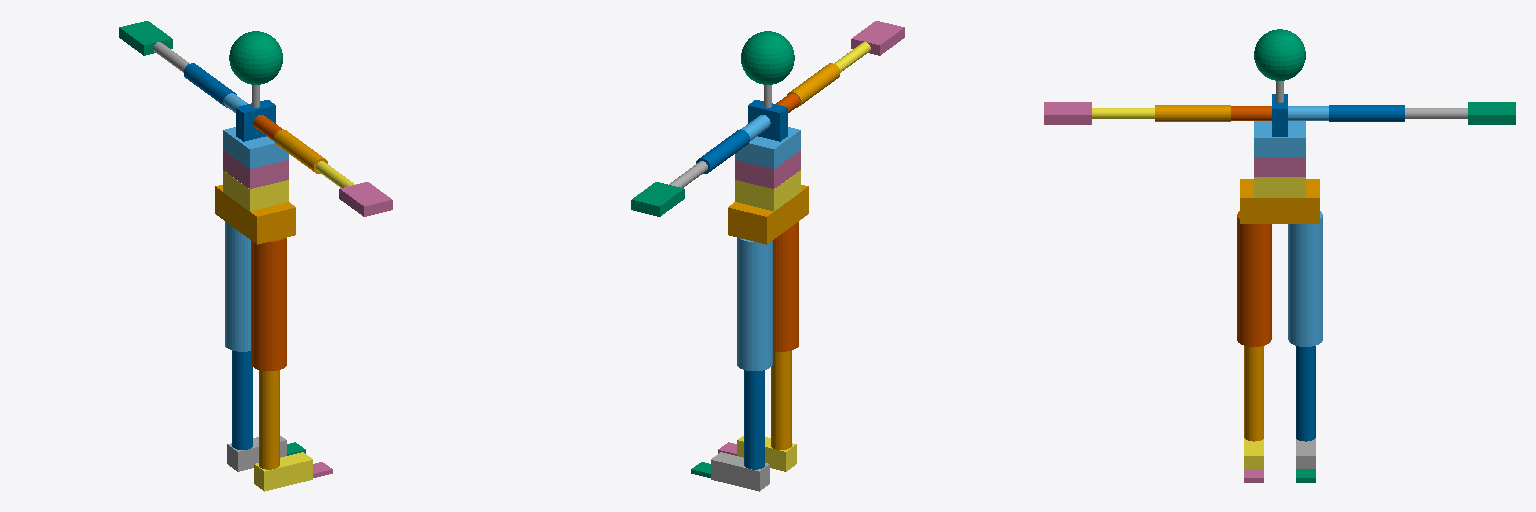
--- Facts derived from the render (not from the file) ---
The picture shows the robot from 3 angles, left to right: view 1: azimuth 30°, elevation 25°; view 2: azimuth 150°, elevation 25°; view 3: azimuth 270°, elevation 25°; orthographic projection.
Model XSensStyleModel_template with 67 links and 66 joints (66 revolute), rooted at Pelvis, posed all joints at 0.
Visible links, largest first — view 1: RightUpperLeg, LeftUpperLeg, Pelvis, Head, RightLowerLeg, LeftLowerLeg, T12, RightFoot, L5, L3, RightHand, LeftHand (+4 smaller); view 2: LeftUpperLeg, RightUpperLeg, Pelvis, Head, LeftLowerLeg, RightLowerLeg, T12, LeftFoot, L5, L3, LeftHand, RightHand (+4 smaller); view 3: RightUpperLeg, LeftUpperLeg, Pelvis, Head, RightLowerLeg, LeftLowerLeg, T12, RightUpperArm, LeftUpperArm, RightHand, LeftHand, L5 (+8 smaller).
Link boxes in pixels (x1,y1,x2,y2): RightUpperLeg: (251,238,286,370); LeftUpperLeg: (225,222,250,351); Pelvis: (215,185,295,244); Head: (229,31,282,84); RightLowerLeg: (259,370,279,469); LeftLowerLeg: (232,351,252,449); T12: (223,127,288,168); RightFoot: (254,452,312,491); L5: (223,170,288,210); L3: (223,150,288,188); RightHand: (339,182,392,216); LeftHand: (119,21,172,55); LeftUpperLeg: (737,238,772,370); RightUpperLeg: (773,222,798,351); Pelvis: (728,185,808,244); Head: (741,31,794,84); LeftLowerLeg: (744,370,764,469); RightLowerLeg: (771,351,791,449); T12: (735,127,800,168); LeftFoot: (711,452,769,491); L5: (735,170,800,210); L3: (735,150,800,188); LeftHand: (631,182,684,216); RightHand: (851,21,904,55); RightUpperLeg: (1237,211,1271,346); LeftUpperLeg: (1288,211,1322,346); Pelvis: (1240,179,1319,223); Head: (1254,29,1305,80); RightLowerLeg: (1244,346,1263,441); LeftLowerLeg: (1296,346,1315,441); T12: (1254,121,1305,156); RightUpperArm: (1155,105,1230,121); LeftUpperArm: (1329,105,1404,121); RightHand: (1044,102,1091,124); LeftHand: (1468,102,1515,124); L5: (1254,177,1305,197).
Bounding box of the posed robot: 0.346 × 1.8 × 1.8 m (x, y, z).
Geometry: primitives only (box / cylinder / sphere), no mesh files.

The robot description file, URDF, robot "XSensStyleModel_template":
<!--URDF MODEL 66 DoFs-->

<robot name="XSensStyleModel_template">
<!--To open this model with Gazebo replace the null masses, inertias and dimensions of the 'fake links f1 and f2'-->
    <!--LINKS-->
	<!--Link base (1)-->
	<link name="Pelvis">
        <inertial>
            <mass value="5.696"/>
			<!--COM origin wrt pHipOrigin-->
            <origin xyz="0           0    0.059167" rpy="0 0 0" />
            <inertia ixx="0.050919" iyy="0.019195" izz="0.058056" ixy="0" ixz="0" iyz="0"/>
        </inertial>

        <visual>
			<!--box origin wrt pHipOrigin-->
            <origin xyz="0           0    0.059167" rpy="0 0 0" />
            <geometry>
                <box size="0.16655     0.30753      0.1127"/>
            </geometry>
        </visual>

        <collision>
			<!--box origin wrt pHipOrigin-->
            <origin xyz="0           0    0.059167" rpy="0 0 0" />
            <geometry>
                <box size="0.16655     0.30753      0.1127"/>
            </geometry>
        </collision>

    </link>
    <!--Chain from (2) to (7)-->
	<link name="L5_f1">
        <inertial>
            <mass value="0"/>
            <origin xyz="0 0 0" rpy="0 0 0" />
            <inertia ixx="0" iyy="0" izz="0" ixy="0" ixz="0" iyz="0"/>
        </inertial>
    </link>
	<link name="L5_f2">
        <inertial>
            <mass value="0"/>
            <origin xyz="0 0 0" rpy="0 0 0" />
            <inertia ixx="0" iyy="0" izz="0" ixy="0" ixz="0" iyz="0"/>
        </inertial>
    </link>
	<link name="L5">
        <inertial>
            <mass value="7.2624"/>
			<!--COM origin wrt jL5S1-->
            <origin xyz="0           0    0.044881" rpy="0 0 0" />
            <inertia ixx="0.02831" iyy="0.021663" izz="0.040221" ixy="0" ixz="0" iyz="0"/>
        </inertial>

        <visual>
			<!--box origin origin wrt jL5S1-->
            <origin xyz="0           0    0.044881" rpy="0 0 0" />
            <geometry>
                <box size="0.16655     0.19678    0.089762"/>
            </geometry>
        </visual>

        <collision>
			<!--box origin origin wrt jL5S1-->
            <origin xyz="0           0    0.044881" rpy="0 0 0" />
            <geometry>
                <box size="0.16655     0.19678    0.089762"/>
            </geometry>
        </collision>
    </link>
	<link name="L3_f1">
        <inertial>
            <mass value="0"/>
            <origin xyz="0 0 0" rpy="0 0 0" />
            <inertia ixx="0" iyy="0" izz="0" ixy="0" ixz="0" iyz="0"/>
        </inertial>
    </link>
	<link name="L3_f2">
        <inertial>
            <mass value="0"/>
            <origin xyz="0 0 0" rpy="0 0 0" />
            <inertia ixx="0" iyy="0" izz="0" ixy="0" ixz="0" iyz="0"/>
        </inertial>
    </link>
	<link name="L3">
        <inertial>
            <mass value="7.2624"/>
			<!--COM origin wrt jL4L3-->
            <origin xyz="0           0    0.040536" rpy="0 0 0" />
            <inertia ixx="0.027412" iyy="0.020764" izz="0.040221" ixy="0" ixz="0" iyz="0"/>
        </inertial>

        <visual>
			<!--box origin origin wrt jL4L3-->
            <origin xyz="0           0    0.040536" rpy="0 0 0" />
            <geometry>
                <box size="0.16655     0.19678    0.081071"/>
            </geometry>
        </visual>

        <collision>
			<!--box origin origin wrt jL4L3-->
            <origin xyz="0           0    0.040536" rpy="0 0 0" />
            <geometry>
                <box size="0.16655     0.19678    0.081071"/>
            </geometry>
        </collision>
    </link>
	<link name="T12_f1">
        <inertial>
            <mass value="0"/>
            <origin xyz="0 0 0" rpy="0 0 0" />
            <inertia ixx="0" iyy="0" izz="0" ixy="0" ixz="0" iyz="0"/>
        </inertial>
    </link>
	<link name="T12_f2">
        <inertial>
            <mass value="0"/>
            <origin xyz="0 0 0" rpy="0 0 0" />
            <inertia ixx="0" iyy="0" izz="0" ixy="0" ixz="0" iyz="0"/>
        </inertial>
    </link>
	<link name="T12">
        <inertial>
            <mass value="7.2624"/>
			<!--COM origin wrt jL1T12-->
            <origin xyz="0           0    0.040536" rpy="0 0 0" />
            <inertia ixx="0.027412" iyy="0.020764" izz="0.040221" ixy="0" ixz="0" iyz="0"/>
        </inertial>

        <visual>
			<!--box origin origin wrt jL1T12-->
            <origin xyz="0           0    0.040536" rpy="0 0 0" />
            <geometry>
                <box size="0.16655     0.19678    0.081071"/>
            </geometry>
        </visual>

        <collision>
			<!--box origin origin wrt jL1T12-->
            <origin xyz="0           0    0.040536" rpy="0 0 0" />
            <geometry>
                <box size="0.16655     0.19678    0.081071"/>
            </geometry>
        </collision>
    </link>
	<link name="T8_f1">
        <inertial>
            <mass value="0"/>
            <origin xyz="0 0 0" rpy="0 0 0" />
            <inertia ixx="0" iyy="0" izz="0" ixy="0" ixz="0" iyz="0"/>
        </inertial>
    </link>
	<link name="T8_f2">
        <inertial>
            <mass value="0"/>
            <origin xyz="0 0 0" rpy="0 0 0" />
            <inertia ixx="0" iyy="0" izz="0" ixy="0" ixz="0" iyz="0"/>
        </inertial>
    </link>
	<link name="T8">
        <inertial>
            <mass value="2.848"/>
			<!--COM origin wrt jT9T8-->
            <origin xyz="0           0    0.058058" rpy="0 0 0" />
            <inertia ixx="0.0040381" iyy="0.0077541" izz="0.0053923" ixy="0" ixz="0" iyz="0"/>
        </inertial>

        <visual>
			<!--box origin wrt jT9T8-->
            <origin xyz="0           0    0.058058" rpy="0 0 0" />
            <geometry>
                <box size="0.13852    0.059426     0.11612"/>
            </geometry>
        </visual>

        <collision>
			<!--box origin wrt jT9T8-->
            <origin xyz="0           0    0.058058" rpy="0 0 0" />
            <geometry>
                <box size="0.13852    0.059426     0.11612"/>
            </geometry>
        </collision>

    </link>
	<link name="Neck_f1">
        <inertial>
            <mass value="0"/>
            <origin xyz="0 0 0" rpy="0 0 0" />
            <inertia ixx="0" iyy="0" izz="0" ixy="0" ixz="0" iyz="0"/>
        </inertial>
    </link>
	<link name="Neck_f2">
        <inertial>
            <mass value="0"/>
            <origin xyz="0 0 0" rpy="0 0 0" />
            <inertia ixx="0" iyy="0" izz="0" ixy="0" ixz="0" iyz="0"/>
        </inertial>
    </link>
	<link name="Neck">
        <inertial>
            <mass value="0.8544"/>
			<!--COM origin wrt jT1C7-->
            <origin xyz="0           0    0.048176" rpy="0 0 0" />
            <inertia ixx="0.00086442" iyy="0.00086442" izz="0.00040681" ixy="0" ixz="0" iyz="0"/>
        </inertial>

        <visual>
			<!--box origin wrt jT1C7-->
            <origin xyz="0           0    0.048176" rpy="0 0 0" />
            <geometry>
		<cylinder length="0.096353" radius="0.01543"/>
            </geometry>
        </visual>

        <collision>
			<!--box origin wrt jT1C7-->
            <origin xyz="0           0    0.048176" rpy="0 0 0" />
            <geometry>
                <cylinder length="0.096353" radius="0.01543"/>
            </geometry>
        </collision>
    </link>
	<link name="Head_f1">
        <inertial>
            <mass value="0"/>
            <origin xyz="0 0 0" rpy="0 0 0" />
            <inertia ixx="0" iyy="0" izz="0" ixy="0" ixz="0" iyz="0"/>
        </inertial>
    </link>
	<link name="Head_f2">
        <inertial>
            <mass value="0"/>
            <origin xyz="0 0 0" rpy="0 0 0" />
            <inertia ixx="0" iyy="0" izz="0" ixy="0" ixz="0" iyz="0"/>
        </inertial>
    </link>
	<link name="Head">
        <inertial>
            <mass value="2.5632"/>
			<!--COM origin wrt jC1Head-->
            <origin xyz="0           0    0.099452" rpy="0 0 0" />
            <inertia ixx="0.010141" iyy="0.010141" izz="0.010141" ixy="0" ixz="0" iyz="0"/>
        </inertial>

        <visual>
			<!--boc origin wrt jC1Head-->
            <origin xyz="0           0    0.099452" rpy="0 0 0" />
            <geometry>
                <sphere radius="0.099452"/>
            </geometry>
        </visual>

        <collision>
			<!--box origin wrt jC1Head-->
            <origin xyz="0           0    0.099452" rpy="0 0 0" />
            <geometry>
                <sphere radius="0.099452"/>
            </geometry>
        </collision>

    </link>
	<!--Chain from (8) to (11)-->
	<link name="RightShoulder_f1">
        <inertial>
            <mass value="0"/>
            <origin xyz="0 0 0" rpy="0 0 0" />
            <inertia ixx="0" iyy="0" izz="0" ixy="0" ixz="0" iyz="0"/>
        </inertial>
    </link>
	<link name="RightShoulder_f2">
        <inertial>
            <mass value="0"/>
            <origin xyz="0 0 0" rpy="0 0 0" />
            <inertia ixx="0" iyy="0" izz="0" ixy="0" ixz="0" iyz="0"/>
        </inertial>
    </link>
	<link name="RightShoulder">
        <inertial>
            <mass value="2.2072"/>
			<!--COM origin wrt jRightC7Shoulder-->
            <origin xyz="0   -0.078854           0" rpy="0 0 0" />
            <inertia ixx="0.0050082" iyy="0.00086686" izz="0.0050082" ixy="0" ixz="0" iyz="0"/>
        </inertial>

        <visual>
			<!--box origin wrt jRightC7Shoulder. RPY rotated of pi/2.-->
            <origin xyz="0   -0.078854           0" rpy="1.5708 0 0" />
            <geometry>
                <cylinder length="0.15771" radius="0.028026"/>
            </geometry>
        </visual>

        <collision>
			<!--box origin wrt jRightC7Shoulder. RPY rotated of pi/2.-->
            <origin xyz="0   -0.078854           0" rpy="1.5708 0 0" />
            <geometry>
                <cylinder length="0.15771" radius="0.028026"/>
            </geometry>
        </collision>

    </link>
	<link name="RightUpperArm_f1">
        <inertial>
            <mass value="0"/>
            <origin xyz="0 0 0" rpy="0 0 0" />
            <inertia ixx="0" iyy="0" izz="0" ixy="0" ixz="0" iyz="0"/>
        </inertial>
    </link>
	<link name="RightUpperArm_f2">
        <inertial>
            <mass value="0"/>
            <origin xyz="0 0 0" rpy="0 0 0" />
            <inertia ixx="0" iyy="0" izz="0" ixy="0" ixz="0" iyz="0"/>
        </inertial>
    </link>
    <link name="RightUpperArm">
        <inertial>
            <mass value="2.136"/>
			<!--COM origin wrt jRightShoulder-->
            <origin xyz="0    -0.14573           0" rpy="0 0 0" />
            <inertia ixx="0.015663" iyy="0.0010831" izz="0.015663" ixy="0" ixz="0" iyz="0"/>
        </inertial>

        <visual>
			<!--box origin wrt jRightShoulder. RPY rotated of pi/2.-->
            <origin xyz="0    -0.14573           0" rpy="1.5708 0 0" />
            <geometry>
                <cylinder length="0.29147" radius="0.031846"/>
            </geometry>
        </visual>

        <collision>
			<!--box origin wrt jRightShoulder. RPY rotated of pi/2.-->
            <origin xyz="0    -0.14573           0" rpy="1.5708 0 0" />
            <geometry>
                <cylinder length="0.29147" radius="0.031846"/>
            </geometry>
        </collision>

    </link>
	<link name="RightForeArm_f1">
        <inertial>
            <mass value="0"/>
            <origin xyz="0 0 0" rpy="0 0 0" />
            <inertia ixx="0" iyy="0" izz="0" ixy="0" ixz="0" iyz="0"/>
        </inertial>
    </link>
	<link name="RightForeArm_f2">
        <inertial>
            <mass value="0"/>
            <origin xyz="0 0 0" rpy="0 0 0" />
            <inertia ixx="0" iyy="0" izz="0" ixy="0" ixz="0" iyz="0"/>
        </inertial>
    </link>
	<link name="RightForeArm">
        <inertial>
            <mass value="1.424"/>
			<!--COM origin wrt jRightElbow-->
            <origin xyz="0    -0.12047           0" rpy="0 0 0" />
            <inertia ixx="0.0070493" iyy="0.00032093" izz="0.0070493" ixy="0" ixz="0" iyz="0"/>
        </inertial>

        <visual>
			<!--box origin wrt jRightElbow. RPY rotated of pi/2.-->
            <origin xyz="0    -0.12047           0" rpy="1.5708 0 0" />
            <geometry>
                <cylinder length="0.24094" radius="0.021231"/>
            </geometry>
        </visual>

        <collision>
			<!--box origin wrt jRightElbow. RPY rotated of pi/2.-->
            <origin xyz="0    -0.12047           0" rpy="1.5708 0 0" />
            <geometry>
                <cylinder length="0.24094" radius="0.021231"/>
            </geometry>
        </collision>

    </link>
	<link name="RightHand_f1">
        <inertial>
            <mass value="0"/>
            <origin xyz="0 0 0" rpy="0 0 0" />
            <inertia ixx="0" iyy="0" izz="0" ixy="0" ixz="0" iyz="0"/>
        </inertial>
    </link>
	<link name="RightHand_f2">
        <inertial>
            <mass value="0"/>
            <origin xyz="0 0 0" rpy="0 0 0" />
            <inertia ixx="0" iyy="0" izz="0" ixy="0" ixz="0" iyz="0"/>
        </inertial>
    </link>
	<link name="RightHand">
        <inertial>
            <mass value="0.4272"/>
			<!--COM origin wrt jRightWrist-->
            <origin xyz="0   -0.090968           0" rpy="0 0 0" />
            <inertia ixx="0.0012426" iyy="0.00058792" izz="0.0017021" ixy="0" ixz="0" iyz="0"/>
        </inertial>

        <visual>
			<!--box origin wrt jRightWrist-->
            <origin xyz="0   -0.090968           0" rpy="0 0 0" />
            <geometry>
                <box size="0.12129     0.18194    0.042461"/>
            </geometry>
        </visual>

        <collision>
			<!--box origin wrt jRightWrist-->
            <origin xyz="0   -0.090968           0" rpy="0 0 0" />
            <geometry>
                <box size="0.12129     0.18194    0.042461"/>
            </geometry>
        </collision>

    </link>
	<!--Chain from (12) to (15)-->
	<link name="LeftShoulder_f1">
        <inertial>
            <mass value="0"/>
            <origin xyz="0 0 0" rpy="0 0 0" />
            <inertia ixx="0" iyy="0" izz="0" ixy="0" ixz="0" iyz="0"/>
        </inertial>
    </link>
	<link name="LeftShoulder_f2">
        <inertial>
            <mass value="0"/>
            <origin xyz="0 0 0" rpy="0 0 0" />
            <inertia ixx="0" iyy="0" izz="0" ixy="0" ixz="0" iyz="0"/>
        </inertial>
    </link>
	<link name="LeftShoulder">
        <inertial>
            <mass value="2.2072"/>
			<!--COM origin wrt jLeftC7Shoulder-->
            <origin xyz="0    0.078854           0" rpy="0 0 0" />
            <inertia ixx="0.0050082" iyy="0.00086686" izz="0.0050082" ixy="0" ixz="0" iyz="0"/>
        </inertial>

        <visual>
			<!--box origin wrt jLeftC7Shoulder. RPY rotated of pi/2.-->
            <origin xyz="0    0.078854           0" rpy="1.5708 0 0" />
            <geometry>
                <cylinder length="0.15771" radius="0.028026"/>
            </geometry>
        </visual>

        <collision>
			<!--box origin wrt jLeftC7Shoulder. RPY rotated of pi/2.-->
            <origin xyz="0    0.078854           0" rpy="1.5708 0 0" />
            <geometry>
                <cylinder length="0.15771" radius="0.028026"/>
            </geometry>
        </collision>

    </link>
	<link name="LeftUpperArm_f1">
        <inertial>
            <mass value="0"/>
            <origin xyz="0 0 0" rpy="0 0 0" />
            <inertia ixx="0" iyy="0" izz="0" ixy="0" ixz="0" iyz="0"/>
        </inertial>
    </link>
	<link name="LeftUpperArm_f2">
        <inertial>
            <mass value="0"/>
            <origin xyz="0 0 0" rpy="0 0 0" />
            <inertia ixx="0" iyy="0" izz="0" ixy="0" ixz="0" iyz="0"/>
        </inertial>
    </link>
	<link name="LeftUpperArm">
        <inertial>
            <mass value="2.136"/>
			<!--COM origin wrt jLeftShoulder-->
            <origin xyz="0     0.14573           0" rpy="0 0 0" />
            <inertia ixx="0.015663" iyy="0.0010831" izz="0.015663" ixy="0" ixz="0" iyz="0"/>
        </inertial>

        <visual>
			<!--box origin wrt jLeftShoulder. RPY rotated of pi/2.-->
            <origin xyz="0     0.14573           0" rpy="1.5708 0 0" />
            <geometry>
                <cylinder length="0.29147" radius="0.031846"/>
            </geometry>
        </visual>

        <collision>
			<!--box origin wrt jLeftShoulder. RPY rotated of pi/2.-->
            <origin xyz="0     0.14573           0" rpy="1.5708 0 0" />
            <geometry>
                <cylinder length="0.29147" radius="0.031846"/>
            </geometry>
        </collision>

    </link>
	<link name="LeftForeArm_f1">
        <inertial>
            <mass value="0"/>
            <origin xyz="0 0 0" rpy="0 0 0" />
            <inertia ixx="0" iyy="0" izz="0" ixy="0" ixz="0" iyz="0"/>
        </inertial>
    </link>
	<link name="LeftForeArm_f2">
        <inertial>
            <mass value="0"/>
            <origin xyz="0 0 0" rpy="0 0 0" />
            <inertia ixx="0" iyy="0" izz="0" ixy="0" ixz="0" iyz="0"/>
        </inertial>
    </link>
	<link name="LeftForeArm">
        <inertial>
            <mass value="1.424"/>
			<!--COM origin wrt jLeftElbow-->
            <origin xyz="0     0.12047           0" rpy="0 0 0" />
            <inertia ixx="0.0070493" iyy="0.00032093" izz="0.0070493" ixy="0" ixz="0" iyz="0"/>
        </inertial>

        <visual>
			<!--box origin wrt jLeftElbow. RPY rotated of pi/2.-->
            <origin xyz="0     0.12047           0" rpy="1.5708 0 0" />
            <geometry>
                <cylinder length="0.24094" radius="0.021231"/>
            </geometry>
        </visual>

        <collision>
			<!--box origin wrt jLeftElbow. RPY rotated of pi/2.-->
            <origin xyz="0     0.12047           0" rpy="1.5708 0 0" />
            <geometry>
                <cylinder length="0.24094" radius="0.021231"/>
            </geometry>
        </collision>

    </link>
	<link name="LeftHand_f1">
        <inertial>
            <mass value="0"/>
            <origin xyz="0 0 0" rpy="0 0 0" />
            <inertia ixx="0" iyy="0" izz="0" ixy="0" ixz="0" iyz="0"/>
        </inertial>
    </link>
	<link name="LeftHand_f2">
        <inertial>
            <mass value="0"/>
            <origin xyz="0 0 0" rpy="0 0 0" />
            <inertia ixx="0" iyy="0" izz="0" ixy="0" ixz="0" iyz="0"/>
        </inertial>
    </link>
	<link name="LeftHand">
        <inertial>
            <mass value="0.4272"/>
			<!--COM origin wrt jLeftWrist-->
            <origin xyz="0    0.090968           0" rpy="0 0 0" />
            <inertia ixx="0.0012426" iyy="0.00058792" izz="0.0017021" ixy="0" ixz="0" iyz="0"/>
        </inertial>

        <visual>
			<!--COM origin wrt jLeftWrist-->
            <origin xyz="0    0.090968           0" rpy="0 0 0" />
            <geometry>
                <box size="0.12129     0.18194    0.042461"/>
            </geometry>
        </visual>

        <collision>
			<!--COM origin wrt jLeftWrist-->
            <origin xyz="0    0.090968           0" rpy="0 0 0" />
            <geometry>
                <box size="0.12129     0.18194    0.042461"/>
            </geometry>
        </collision>

    </link>
	<!--Chain from (16) to (19)-->
	<link name="RightUpperLeg_f1">
        <inertial>
            <mass value="0"/>
            <origin xyz="0 0 0" rpy="0 0 0" />
            <inertia ixx="0" iyy="0" izz="0" ixy="0" ixz="0" iyz="0"/>
        </inertial>
    </link>
	<link name="RightUpperLeg_f2">
        <inertial>
            <mass value="0"/>
            <origin xyz="0 0 0" rpy="0 0 0" />
            <inertia ixx="0" iyy="0" izz="0" ixy="0" ixz="0" iyz="0"/>
        </inertial>
    </link>
    <link name="RightUpperLeg">
        <inertial>
            <mass value="8.9"/>
			<!--COM origin wrt jRightHip-->
            <origin xyz="0           0    -0.26304" rpy="0 0 0" />
            <inertia ixx="0.21503" iyy="0.21503" izz="0.019525" ixy="0" ixz="0" iyz="0"/>
        </inertial>

        <visual>
			<!--box origin wrt jRightHip-->
            <origin xyz="0           0    -0.26304" rpy="0 0 0" />
            <geometry>
                <cylinder length="0.52609" radius="0.066238"/>
            </geometry>
        </visual>

        <collision>
			<!--box origin wrt jRightHip-->
            <origin xyz="0           0    -0.26304" rpy="0 0 0" />
            <geometry>
                <cylinder length="0.52609" radius="0.066238"/>
            </geometry>
        </collision>

    </link>
	<link name="RightLowerLeg_f1">
        <inertial>
            <mass value="0"/>
            <origin xyz="0 0 0" rpy="0 0 0" />
            <inertia ixx="0" iyy="0" izz="0" ixy="0" ixz="0" iyz="0"/>
        </inertial>
    </link>
	<link name="RightLowerLeg_f2">
        <inertial>
            <mass value="0"/>
            <origin xyz="0 0 0" rpy="0 0 0" />
            <inertia ixx="0" iyy="0" izz="0" ixy="0" ixz="0" iyz="0"/>
        </inertial>
    </link>
    <link name="RightLowerLeg">
        <inertial>
            <mass value="2.5988"/>
			<!--COM origin wrt jRightKnee-->
            <origin xyz="0           0    -0.20614" rpy="0 0 0" />
            <inertia ixx="0.037755" iyy="0.037755" izz="0.0018892" ixy="0" ixz="0" iyz="0"/>
        </inertial>

        <visual>
			<!--box origin wrt jRightKnee-->
            <origin xyz="0           0    -0.20614" rpy="0 0 0" />
            <geometry>
                <cylinder length="0.41228" radius="0.03813"/>
            </geometry>
        </visual>

        <collision>
			<!--box origin wrt jRightKnee-->
            <origin xyz="0           0    -0.20614" rpy="0 0 0" />
            <geometry>
                <cylinder length="0.41228" radius="0.03813"/>
            </geometry>
        </collision>

    </link>
	<link name="RightFoot_f1">
        <inertial>
            <mass value="0"/>
            <origin xyz="0 0 0" rpy="0 0 0" />
            <inertia ixx="0" iyy="0" izz="0" ixy="0" ixz="0" iyz="0"/>
        </inertial>
    </link>
	<link name="RightFoot_f2">
        <inertial>
            <mass value="0"/>
            <origin xyz="0 0 0" rpy="0 0 0" />
            <inertia ixx="0" iyy="0" izz="0" ixy="0" ixz="0" iyz="0"/>
        </inertial>
    </link>
    <link name="RightFoot">
        <inertial>
            <mass value="0.9256"/>
			<!--COM origin wrt jRightAnkle-->
            <origin xyz="0.061581           0   -0.040628" rpy="0 0 0" />
            <inertia ixx="0.00095786" iyy="0.0038434" izz="0.0037827" ixy="0" ixz="0" iyz="0"/>
        </inertial>

        <visual>
			<!--box origin wrt jRightAnkle-->
	    	<origin xyz="0.061581           0   -0.040628" rpy="0 0 0" />
            <geometry>
                <box size="0.20791     0.07626    0.081257"/>
            </geometry>
        </visual>

        <collision>
			<!--box origin wrt jRightAnkle-->
		    <origin xyz="0.061581           0   -0.040628" rpy="0 0 0" />
	            <geometry>
	                <box size="0.20791     0.07626    0.081257"/>
	            </geometry>
        </collision>

    </link>
	<link name="RightToe_f1">
        <inertial>
            <mass value="0"/>
            <origin xyz="0 0 0" rpy="0 0 0" />
            <inertia ixx="0" iyy="0" izz="0" ixy="0" ixz="0" iyz="0"/>
        </inertial>
    </link>
	<link name="RightToe_f2">
        <inertial>
            <mass value="0"/>
            <origin xyz="0 0 0" rpy="0 0 0" />
            <inertia ixx="0" iyy="0" izz="0" ixy="0" ixz="0" iyz="0"/>
        </inertial>
    </link>
    <link name="RightToe">
        <inertial>
            <mass value="0.1068"/>
			<!--COM origin wrt jRightBallFoot-->
            <origin xyz="0.041044           0           0" rpy="0 0 0" />
            <inertia ixx="5.4675e-05" iyy="6.289e-05" izz="0.00011173" ixy="0" ixz="0" iyz="0"/>
        </inertial>

        <visual>
			<!--box origin wrt jRightBallFoot-->
            <origin xyz="0.041044           0           0" rpy="0 0 0" />
            <geometry>
                <box size="0.082089     0.07626    0.018102"/>
            </geometry>
        </visual>

        <collision>
			<!--box origin wrt jRightBallFoot-->
            <origin xyz="0.041044           0           0" rpy="0 0 0" />
            <geometry>
                <box size="0.082089     0.07626    0.018102"/>
            </geometry>
        </collision>
    </link>
	<!--Chain from (20) to (23)-->
	<link name="LeftUpperLeg_f1">
        <inertial>
            <mass value="0"/>
            <origin xyz="0 0 0" rpy="0 0 0" />
            <inertia ixx="0" iyy="0" izz="0" ixy="0" ixz="0" iyz="0"/>
        </inertial>
    </link>
	<link name="LeftUpperLeg_f2">
        <inertial>
            <mass value="0"/>
            <origin xyz="0 0 0" rpy="0 0 0" />
            <inertia ixx="0" iyy="0" izz="0" ixy="0" ixz="0" iyz="0"/>
        </inertial>
    </link>
    <link name="LeftUpperLeg">
        <inertial>
            <mass value="8.9"/>
			<!--COM origin wrt jLeftHip-->
            <origin xyz="0           0    -0.26304" rpy="0 0 0" />
            <inertia ixx="0.21503" iyy="0.21503" izz="0.019525" ixy="0" ixz="0" iyz="0"/>
        </inertial>

        <visual>
			<!--box origin wrt jLeftHip-->
            <origin xyz="0           0    -0.26304" rpy="0 0 0" />
            <geometry>
                <cylinder length="0.52609" radius="0.066238"/>
            </geometry>
        </visual>

        <collision>
			<!--box origin wrt jLeftHip-->
            <origin xyz="0           0    -0.26304" rpy="0 0 0" />
            <geometry>
                <cylinder length="0.52609" radius="0.066238"/>
            </geometry>
        </collision>

    </link>
	<link name="LeftLowerLeg_f1">
        <inertial>
            <mass value="0"/>
            <origin xyz="0 0 0" rpy="0 0 0" />
            <inertia ixx="0" iyy="0" izz="0" ixy="0" ixz="0" iyz="0"/>
        </inertial>
    </link>
	<link name="LeftLowerLeg_f2">
        <inertial>
            <mass value="0"/>
            <origin xyz="0 0 0" rpy="0 0 0" />
            <inertia ixx="0" iyy="0" izz="0" ixy="0" ixz="0" iyz="0"/>
        </inertial>
    </link>
	<link name="LeftLowerLeg">
        <inertial>
            <mass value="2.5988"/>
			<!--COM origin wrt jLeftKnee-->
            <origin xyz="0           0    -0.20614" rpy="0 0 0" />
            <inertia ixx="0.037755" iyy="0.037755" izz="0.0018892" ixy="0" ixz="0" iyz="0"/>
        </inertial>

        <visual>
			<!--box origin wrt jLeftKnee-->
            <origin xyz="0           0    -0.20614" rpy="0 0 0" />
            <geometry>
		<cylinder length="0.41228" radius="0.03813"/>
            </geometry>
        </visual>

        <collision>
			<!--box origin wrt jLeftKnee-->
            <origin xyz="0           0    -0.20614" rpy="0 0 0" />
            <geometry>
		<cylinder length="0.41228" radius="0.03813"/>
            </geometry>
        </collision>

    </link>
	<link name="LeftFoot_f1">
        <inertial>
            <mass value="0"/>
            <origin xyz="0 0 0" rpy="0 0 0" />
            <inertia ixx="0" iyy="0" izz="0" ixy="0" ixz="0" iyz="0"/>
        </inertial>
    </link>
	<link name="LeftFoot_f2">
        <inertial>
            <mass value="0"/>
            <origin xyz="0 0 0" rpy="0 0 0" />
            <inertia ixx="0" iyy="0" izz="0" ixy="0" ixz="0" iyz="0"/>
        </inertial>
    </link>
    <link name="LeftFoot">
        <inertial>
            <mass value="0.9256"/>
			<!--COM origin wrt jLeftAnkle-->
            <origin xyz="0.061581           0   -0.040628" rpy="0 0 0" />
            <inertia ixx="0.00095786" iyy="0.0038434" izz="0.0037827" ixy="0" ixz="0" iyz="0"/>
        </inertial>

        <visual>
			<!--box origin wrt jLeftAnkle-->
	   	 	<origin xyz="0.061581           0   -0.040628" rpy="0 0 0" />
            <geometry>
                <box size="0.20791     0.07626    0.081257"/>
            </geometry>
        </visual>

        <collision>
			<!--box origin wrt jLeftAnkle-->
		    <origin xyz="0.061581           0   -0.040628" rpy="0 0 0" />
	            <geometry>
	                <box size="0.20791     0.07626    0.081257"/>
	            </geometry>
        </collision>

    </link>
	<link name="LeftToe_f1">
        <inertial>
            <mass value="0"/>
            <origin xyz="0 0 0" rpy="0 0 0" />
            <inertia ixx="0" iyy="0" izz="0" ixy="0" ixz="0" iyz="0"/>
        </inertial>
    </link>
	<link name="LeftToe_f2">
        <inertial>
            <mass value="0"/>
            <origin xyz="0 0 0" rpy="0 0 0" />
            <inertia ixx="0" iyy="0" izz="0" ixy="0" ixz="0" iyz="0"/>
        </inertial>
    </link>
	<link name="LeftToe">
        <inertial>
            <mass value="0.1068"/>
			<!--COM origin wrt jLeftBallFoot-->
            <origin xyz="0.041044           0           0" rpy="0 0 0" />
            <inertia ixx="5.4675e-05" iyy="6.289e-05" izz="0.00011173" ixy="0" ixz="0" iyz="0"/>
        </inertial>

        <visual>
			<!--box origin wrt jLeftBallFoot-->
            <origin xyz="0.041044           0           0" rpy="0 0 0" />
            <geometry>
                <box size="0.082089     0.07626    0.018102"/>
            </geometry>
        </visual>

        <collision>
			<!--box origin wrt jLeftBallFoot-->
            <origin xyz="0.041044           0           0" rpy="0 0 0" />
            <geometry>
                <box size="0.082089     0.07626    0.018102"/>
            </geometry>
        </collision>
    </link>


	<!--JOINTS-->
	<!--Chain from (2) to (7)-->
	<joint name="jL5S1_rotx" type="revolute">
        <origin xyz="-0.000575           0     0.11552" rpy="0 0 0"/>
        <parent link="Pelvis"/>
        <child link="L5_f1"/>
        <dynamics damping="0.1" friction="0.0"/>
        <limit effort="30" velocity="1.0" lower="-10.0" upper="10.0" />
        <axis xyz="1 0 0" />
    </joint>
	<joint name="jL5S1_roty" type="revolute">
        <origin xyz="0 0 0" rpy="0 0 0"/>
        <parent link="L5_f1"/>
        <child link="L5_f2"/>
        <dynamics damping="0.1" friction="0.0"/>
        <limit effort="30" velocity="1.0" lower="-10.0" upper="10.0" />
        <axis xyz="0 1 0" />
    </joint>
    <joint name="jL5S1_rotz" type="revolute">
        <origin xyz="0 0 0" rpy="0 0 0"/>
        <parent link="L5_f2"/>
        <child link="L5"/>
        <dynamics damping="0.1" friction="0.0"/>
        <limit effort="30" velocity="1.0" lower="-10.0" upper="10.0" />
        <axis xyz="0 0 1" />
    </joint>
	<joint name="jL4L3_rotx" type="revolute">
        <origin xyz="0.001044           0    0.089762" rpy="0 0 0"/>
        <parent link="L5"/>
        <child link="L3_f1"/>
        <dynamics damping="0.1" friction="0.0"/>
        <limit effort="30" velocity="1.0" lower="-10.0" upper="10.0" />
        <axis xyz="1 0 0" />
    </joint>
	<joint name="jL4L3_roty" type="revolute">
        <origin xyz="0 0 0" rpy="0 0 0"/>
        <parent link="L3_f1"/>
        <child link="L3_f2"/>
        <dynamics damping="0.1" friction="0.0"/>
        <limit effort="30" velocity="1.0" lower="-10.0" upper="10.0" />
        <axis xyz="0 1 0" />
    </joint>
    <joint name="jL4L3_rotz" type="revolute">
        <origin xyz="0 0 0" rpy="0 0 0"/>
        <parent link="L3_f2"/>
        <child link="L3"/>
        <dynamics damping="0.1" friction="0.0"/>
        <limit effort="30" velocity="1.0" lower="-10.0" upper="10.0" />
        <axis xyz="0 0 1" />
    </joint>
	<joint name="jL1T12_rotx" type="revolute">
        <origin xyz="0           0    0.081071" rpy="0 0 0"/>
        <parent link="L3"/>
        <child link="T12_f1"/>
        <dynamics damping="0.1" friction="0.0"/>
        <limit effort="30" velocity="1.0" lower="-10.0" upper="10.0" />
        <axis xyz="1 0 0" />
    </joint>
	<joint name="jL1T12_roty" type="revolute">
        <origin xyz="0 0 0" rpy="0 0 0"/>
        <parent link="T12_f1"/>
        <child link="T12_f2"/>
        <dynamics damping="0.1" friction="0.0"/>
        <limit effort="30" velocity="1.0" lower="-10.0" upper="10.0" />
        <axis xyz="0 1 0" />
    </joint>
    <joint name="jL1T12_rotz" type="revolute">
        <origin xyz="0 0 0" rpy="0 0 0"/>
        <parent link="T12_f2"/>
        <child link="T12"/>
        <dynamics damping="0.1" friction="0.0"/>
        <limit effort="30" velocity="1.0" lower="-10.0" upper="10.0" />
        <axis xyz="0 0 1" />
    </joint>
	<joint name="jT9T8_rotx" type="revolute">
        <origin xyz="0           0    0.081071" rpy="0 0 0"/>
        <parent link="T12"/>
        <child link="T8_f1"/>
        <dynamics damping="0.1" friction="0.0"/>
        <limit effort="30" velocity="1.0" lower="-10.0" upper="10.0" />
        <axis xyz="1 0 0" />
    </joint>
	<joint name="jT9T8_roty" type="revolute">
        <origin xyz="0 0 0" rpy="0 0 0"/>
        <parent link="T8_f1"/>
        <child link="T8_f2"/>
        <dynamics damping="0.1" friction="0.0"/>
        <limit effort="30" velocity="1.0" lower="-10.0" upper="10.0" />
        <axis xyz="0 1 0" />
    </joint>
    <joint name="jT9T8_rotz" type="revolute">
        <origin xyz="0 0 0" rpy="0 0 0"/>
        <parent link="T8_f2"/>
        <child link="T8"/>
        <dynamics damping="0.1" friction="0.0"/>
        <limit effort="30" velocity="1.0" lower="-10.0" upper="10.0" />
        <axis xyz="0 0 1" />
    </joint>
	<joint name="jT1C7_rotx" type="revolute">
        <origin xyz="0           0     0.11612" rpy="0 0 0"/>
        <parent link="T8"/>
        <child link="Neck_f1"/>
        <dynamics damping="0.1" friction="0.0"/>
        <limit effort="30" velocity="1.0" lower="-10.0" upper="10.0" />
        <axis xyz="1 0 0" />
    </joint>
	<joint name="jT1C7_roty" type="revolute">
        <origin xyz="0 0 0" rpy="0 0 0"/>
        <parent link="Neck_f1"/>
        <child link="Neck_f2"/>
        <dynamics damping="0.1" friction="0.0"/>
        <limit effort="30" velocity="1.0" lower="-10.0" upper="10.0" />
        <axis xyz="0 1 0" />
    </joint>
    <joint name="jT1C7_rotz" type="revolute">
        <origin xyz="0 0 0" rpy="0 0 0"/>
        <parent link="Neck_f2"/>
        <child link="Neck"/>
        <dynamics damping="0.1" friction="0.0"/>
        <limit effort="30" velocity="1.0" lower="-10.0" upper="10.0" />
        <axis xyz="0 0 1" />
    </joint>
	<joint name="jC1Head_rotx" type="revolute">
        <origin xyz="0.000829           0    0.096353" rpy="0 0 0"/>
        <parent link="Neck"/>
        <child link="Head_f1"/>
        <dynamics damping="0.1" friction="0.0"/>
        <limit effort="30" velocity="1.0" lower="-10.0" upper="10.0" />
        <axis xyz="1 0 0" />
    </joint>
	<joint name="jC1Head_roty" type="revolute">
        <origin xyz="0 0 0" rpy="0 0 0"/>
        <parent link="Head_f1"/>
        <child link="Head_f2"/>
        <dynamics damping="0.1" friction="0.0"/>
        <limit effort="30" velocity="1.0" lower="-10.0" upper="10.0" />
        <axis xyz="0 1 0" />
    </joint>
    <joint name="jC1Head_rotz" type="revolute">
        <origin xyz="0 0 0" rpy="0 0 0"/>
        <parent link="Head_f2"/>
        <child link="Head"/>
        <dynamics damping="0.1" friction="0.0"/>
        <limit effort="30" velocity="1.0" lower="-10.0" upper="10.0" />
        <axis xyz="0 0 1" />
    </joint>
	<!--Chain from (8) to (11)-->
	<joint name="jRightC7Shoulder_rotx" type="revolute">
        <origin xyz="0   -0.029713    0.065446" rpy="0 0 0"/>
        <parent link="T8"/>
        <child link="RightShoulder_f1"/>
        <dynamics damping="0.1" friction="0.0"/>
        <limit effort="30" velocity="1.0" lower="-10.0" upper="10.0" />
        <axis xyz="1 0 0" />
    </joint>
	<joint name="jRightC7Shoulder_roty" type="revolute">
        <origin xyz="0 0 0" rpy="0 0 0"/>
        <parent link="RightShoulder_f1"/>
        <child link="RightShoulder_f2"/>
        <dynamics damping="0.1" friction="0.0"/>
        <limit effort="30" velocity="1.0" lower="-10.0" upper="10.0" />
        <axis xyz="0 1 0" />
    </joint>
    <joint name="jRightC7Shoulder_rotz" type="revolute">
        <origin xyz="0 0 0" rpy="0 0 0"/>
        <parent link="RightShoulder_f2"/>
        <child link="RightShoulder"/>
        <dynamics damping="0.1" friction="0.0"/>
        <limit effort="30" velocity="1.0" lower="-10.0" upper="10.0" />
        <axis xyz="0 0 1" />
    </joint>
	<joint name="jRightShoulder_rotx" type="revolute">
        <origin xyz="0    -0.15771           0" rpy="0 0 0"/>
        <parent link="RightShoulder"/>
        <child link="RightUpperArm_f1"/>
        <dynamics damping="0.1" friction="0.0"/>
        <limit effort="30" velocity="1.0" lower="-10.0" upper="10.0" />
        <axis xyz="1 0 0" />
    </joint>
	<joint name="jRightShoulder_roty" type="revolute">
        <origin xyz="0 0 0" rpy="0 0 0"/>
        <parent link="RightUpperArm_f1"/>
        <child link="RightUpperArm_f2"/>
        <dynamics damping="0.1" friction="0.0"/>
        <limit effort="30" velocity="1.0" lower="-10.0" upper="10.0" />
        <axis xyz="0 1 0" />
    </joint>
    <joint name="jRightShoulder_rotz" type="revolute">
        <origin xyz="0 0 0" rpy="0 0 0"/>
        <parent link="RightUpperArm_f2"/>
        <child link="RightUpperArm"/>
        <dynamics damping="0.1" friction="0.0"/>
        <limit effort="30" velocity="1.0" lower="-10.0" upper="10.0" />
        <axis xyz="0 0 1" />
    </joint>
	<joint name="jRightElbow_rotx" type="revolute">
        <origin xyz="0    -0.29147           0" rpy="0 0 0"/>
        <parent link="RightUpperArm"/>
        <child link="RightForeArm_f1"/>
        <dynamics damping="0.1" friction="0.0"/>
        <limit effort="30" velocity="1.0" lower="-10.0" upper="10.0" />
        <axis xyz="1 0 0" />
    </joint>
	<joint name="jRightElbow_roty" type="revolute">
        <origin xyz="0 0 0" rpy="0 0 0"/>
        <parent link="RightForeArm_f1"/>
        <child link="RightForeArm_f2"/>
        <dynamics damping="0.1" friction="0.0"/>
        <limit effort="30" velocity="1.0" lower="-10.0" upper="10.0" />
        <axis xyz="0 1 0" />
    </joint>
    <joint name="jRightElbow_rotz" type="revolute">
        <origin xyz="0 0 0" rpy="0 0 0"/>
        <parent link="RightForeArm_f2"/>
        <child link="RightForeArm"/>
        <dynamics damping="0.1" friction="0.0"/>
        <limit effort="30" velocity="1.0" lower="-10.0" upper="10.0" />
        <axis xyz="0 0 1" />
    </joint>
	<joint name="jRightWrist_rotx" type="revolute">
        <origin xyz="0.000102    -0.24094           0" rpy="0 0 0"/>
        <parent link="RightForeArm"/>
        <child link="RightHand_f1"/>
        <dynamics damping="0.1" friction="0.0"/>
        <limit effort="30" velocity="1.0" lower="-10.0" upper="10.0" />
        <axis xyz="1 0 0" />
    </joint>
	<joint name="jRightWrist_roty" type="revolute">
        <origin xyz="0 0 0" rpy="0 0 0"/>
        <parent link="RightHand_f1"/>
        <child link="RightHand_f2"/>
        <dynamics damping="0.1" friction="0.0"/>
        <limit effort="30" velocity="1.0" lower="-10.0" upper="10.0" />
        <axis xyz="0 1 0" />
    </joint>
    <joint name="jRightWrist_rotz" type="revolute">
        <origin xyz="0 0 0" rpy="0 0 0"/>
        <parent link="RightHand_f2"/>
        <child link="RightHand"/>
        <dynamics damping="0.1" friction="0.0"/>
        <limit effort="30" velocity="1.0" lower="-10.0" upper="10.0" />
        <axis xyz="0 0 1" />
    </joint>
	<!--Chain from (12) to (15)-->
	<joint name="jLeftC7Shoulder_rotx" type="revolute">
        <origin xyz="0    0.029713    0.065446" rpy="0 0 0"/>
        <parent link="T8"/>
        <child link="LeftShoulder_f1"/>
        <dynamics damping="0.1" friction="0.0"/>
        <limit effort="30" velocity="1.0" lower="-10.0" upper="10.0" />
        <axis xyz="1 0 0" />
    </joint>
	<joint name="jLeftC7Shoulder_roty" type="revolute">
        <origin xyz="0 0 0" rpy="0 0 0"/>
        <parent link="LeftShoulder_f1"/>
        <child link="LeftShoulder_f2"/>
        <dynamics damping="0.1" friction="0.0"/>
        <limit effort="30" velocity="1.0" lower="-10.0" upper="10.0" />
        <axis xyz="0 1 0" />
    </joint>
    <joint name="jLeftC7Shoulder_rotz" type="revolute">
        <origin xyz="0 0 0" rpy="0 0 0"/>
        <parent link="LeftShoulder_f2"/>
        <child link="LeftShoulder"/>
        <dynamics damping="0.1" friction="0.0"/>
        <limit effort="30" velocity="1.0" lower="-10.0" upper="10.0" />
        <axis xyz="0 0 1" />
    </joint>
	<joint name="jLeftShoulder_rotx" type="revolute">
        <origin xyz="0     0.15771           0" rpy="0 0 0"/>
        <parent link="LeftShoulder"/>
        <child link="LeftUpperArm_f1"/>
        <dynamics damping="0.1" friction="0.0"/>
        <limit effort="30" velocity="1.0" lower="-10.0" upper="10.0" />
        <axis xyz="1 0 0" />
    </joint>
	<joint name="jLeftShoulder_roty" type="revolute">
        <origin xyz="0 0 0" rpy="0 0 0"/>
        <parent link="LeftUpperArm_f1"/>
        <child link="LeftUpperArm_f2"/>
        <dynamics damping="0.1" friction="0.0"/>
        <limit effort="30" velocity="1.0" lower="-10.0" upper="10.0" />
        <axis xyz="0 1 0" />
    </joint>
    <joint name="jLeftShoulder_rotz" type="revolute">
        <origin xyz="0 0 0" rpy="0 0 0"/>
        <parent link="LeftUpperArm_f2"/>
        <child link="LeftUpperArm"/>
        <dynamics damping="0.1" friction="0.0"/>
        <limit effort="30" velocity="1.0" lower="-10.0" upper="10.0" />
        <axis xyz="0 0 1" />
    </joint>
    <joint name="jLeftElbow_rotx" type="revolute">
        <origin xyz="0     0.29147           0" rpy="0 0 0"/>
        <parent link="LeftUpperArm"/>
        <child link="LeftForeArm_f1"/>
        <dynamics damping="0.1" friction="0.0"/>
        <limit effort="30" velocity="1.0" lower="-10.0" upper="10.0" />
        <axis xyz="1 0 0" />
    </joint>
	<joint name="jLeftElbow_roty" type="revolute">
        <origin xyz="0 0 0" rpy="0 0 0"/>
        <parent link="LeftForeArm_f1"/>
        <child link="LeftForeArm_f2"/>
        <dynamics damping="0.1" friction="0.0"/>
        <limit effort="30" velocity="1.0" lower="-10.0" upper="10.0" />
        <axis xyz="0 1 0" />
    </joint>
    <joint name="jLeftElbow_rotz" type="revolute">
        <origin xyz="0 0 0" rpy="0 0 0"/>
        <parent link="LeftForeArm_f2"/>
        <child link="LeftForeArm"/>
        <dynamics damping="0.1" friction="0.0"/>
        <limit effort="30" velocity="1.0" lower="-10.0" upper="10.0" />
        <axis xyz="0 0 1" />
    </joint>
	<joint name="jLeftWrist_rotx" type="revolute">
        <origin xyz="0.000102     0.24094           0" rpy="0 0 0"/>
        <parent link="LeftForeArm"/>
        <child link="LeftHand_f1"/>
        <dynamics damping="0.1" friction="0.0"/>
        <limit effort="30" velocity="1.0" lower="-10.0" upper="10.0" />
        <axis xyz="1 0 0" />
    </joint>
	<joint name="jLeftWrist_roty" type="revolute">
        <origin xyz="0 0 0" rpy="0 0 0"/>
        <parent link="LeftHand_f1"/>
        <child link="LeftHand_f2"/>
        <dynamics damping="0.1" friction="0.0"/>
        <limit effort="30" velocity="1.0" lower="-10.0" upper="10.0" />
        <axis xyz="0 1 0" />
    </joint>
    <joint name="jLeftWrist_rotz" type="revolute">
        <origin xyz="0 0 0" rpy="0 0 0"/>
        <parent link="LeftHand_f2"/>
        <child link="LeftHand"/>
        <dynamics damping="0.1" friction="0.0"/>
        <limit effort="30" velocity="1.0" lower="-10.0" upper="10.0" />
        <axis xyz="0 0 1" />
    </joint>
	<!--Chain from (16) to (19)-->
	<joint name="jRightHip_rotx" type="revolute">
        <origin xyz="0.000287   -0.098388    0.002817" rpy="0 0 0"/>
        <parent link="Pelvis"/>
        <child link="RightUpperLeg_f1"/>
        <dynamics damping="0.1" friction="0.0"/>
        <limit effort="30" velocity="1.0" lower="-10.0" upper="10.0" />
        <axis xyz="1 0 0" />
    </joint>
	<joint name="jRightHip_roty" type="revolute">
        <origin xyz="0 0 0" rpy="0 0 0"/>
        <parent link="RightUpperLeg_f1"/>
        <child link="RightUpperLeg_f2"/>
        <dynamics damping="0.1" friction="0.0"/>
        <limit effort="30" velocity="1.0" lower="-10.0" upper="10.0" />
        <axis xyz="0 1 0" />
    </joint>
    <joint name="jRightHip_rotz" type="revolute">
        <origin xyz="0 0 0" rpy="0 0 0"/>
        <parent link="RightUpperLeg_f2"/>
        <child link="RightUpperLeg"/>
        <dynamics damping="0.1" friction="0.0"/>
        <limit effort="30" velocity="1.0" lower="-10.0" upper="10.0" />
        <axis xyz="0 0 1" />
    </joint>
	<joint name="jRightKnee_rotx" type="revolute">
        <origin xyz="3e-05           0    -0.52609" rpy="0 0 0"/>
        <parent link="RightUpperLeg"/>
        <child link="RightLowerLeg_f1"/>
        <dynamics damping="0.1" friction="0.0"/>
        <limit effort="30" velocity="1.0" lower="-10.0" upper="10.0" />
        <axis xyz="1 0 0" />
    </joint>
	<joint name="jRightKnee_roty" type="revolute">
        <origin xyz="0 0 0" rpy="0 0 0"/>
        <parent link="RightLowerLeg_f1"/>
        <child link="RightLowerLeg_f2"/>
        <dynamics damping="0.1" friction="0.0"/>
        <limit effort="30" velocity="1.0" lower="-10.0" upper="10.0" />
        <axis xyz="0 1 0" />
    </joint>
    <joint name="jRightKnee_rotz" type="revolute">
        <origin xyz="0 0 0" rpy="0 0 0"/>
        <parent link="RightLowerLeg_f2"/>
        <child link="RightLowerLeg"/>
        <dynamics damping="0.1" friction="0.0"/>
        <limit effort="30" velocity="1.0" lower="-10.0" upper="10.0" />
        <axis xyz="0 0 1" />
    </joint>
	<joint name="jRightAnkle_rotx" type="revolute">
        <origin xyz="-0.0001           0    -0.41228" rpy="0 0 0"/>
        <parent link="RightLowerLeg"/>
        <child link="RightFoot_f1"/>
        <dynamics damping="0.1" friction="0.0"/>
        <limit effort="30" velocity="1.0" lower="-10.0" upper="10.0" />
        <axis xyz="1 0 0" />
    </joint>
	<joint name="jRightAnkle_roty" type="revolute">
        <origin xyz="0 0 0" rpy="0 0 0"/>
        <parent link="RightFoot_f1"/>
        <child link="RightFoot_f2"/>
        <dynamics damping="0.1" friction="0.0"/>
        <limit effort="30" velocity="1.0" lower="-10.0" upper="10.0" />
        <axis xyz="0 1 0" />
    </joint>
    <joint name="jRightAnkle_rotz" type="revolute">
        <origin xyz="0 0 0" rpy="0 0 0"/>
        <parent link="RightFoot_f2"/>
        <child link="RightFoot"/>
        <dynamics damping="0.1" friction="0.0"/>
        <limit effort="30" velocity="1.0" lower="-10.0" upper="10.0" />
        <axis xyz="0 0 1" />
    </joint>
	<joint name="jRightBallFoot_rotx" type="revolute">
        <origin xyz="0.16553           0   -0.067444" rpy="0 0 0"/>
        <parent link="RightFoot"/>
        <child link="RightToe_f1"/>
        <dynamics damping="0.1" friction="0.0"/>
        <limit effort="30" velocity="1.0" lower="-10.0" upper="10.0" />
        <axis xyz="1 0 0" />
    </joint>
	<joint name="jRightBallFoot_roty" type="revolute">
        <origin xyz="0 0 0" rpy="0 0 0"/>
        <parent link="RightToe_f1"/>
        <child link="RightToe_f2"/>
        <dynamics damping="0.1" friction="0.0"/>
        <limit effort="30" velocity="1.0" lower="-10.0" upper="10.0" />
        <axis xyz="0 1 0" />
    </joint>
    <joint name="jRightBallFoot_rotz" type="revolute">
        <origin xyz="0 0 0" rpy="0 0 0"/>
        <parent link="RightToe_f2"/>
        <child link="RightToe"/>
        <dynamics damping="0.1" friction="0.0"/>
        <limit effort="30" velocity="1.0" lower="-10.0" upper="10.0" />
        <axis xyz="0 0 1" />
    </joint>
	<!--Chain from (20) to (23)-->
	<joint name="jLeftHip_rotx" type="revolute">
        <origin xyz="0.000287    0.098388    0.002817" rpy="0 0 0"/>
        <parent link="Pelvis"/>
        <child link="LeftUpperLeg_f1"/>
        <dynamics damping="0.1" friction="0.0"/>
        <limit effort="30" velocity="1.0" lower="-10.0" upper="10.0" />
        <axis xyz="1 0 0" />
    </joint>
	<joint name="jLeftHip_roty" type="revolute">
        <origin xyz="0 0 0" rpy="0 0 0"/>
        <parent link="LeftUpperLeg_f1"/>
        <child link="LeftUpperLeg_f2"/>
        <dynamics damping="0.1" friction="0.0"/>
        <limit effort="30" velocity="1.0" lower="-10.0" upper="10.0" />
        <axis xyz="0 1 0" />
    </joint>
    <joint name="jLeftHip_rotz" type="revolute">
        <origin xyz="0 0 0" rpy="0 0 0"/>
        <parent link="LeftUpperLeg_f2"/>
        <child link="LeftUpperLeg"/>
        <dynamics damping="0.1" friction="0.0"/>
        <limit effort="30" velocity="1.0" lower="-10.0" upper="10.0" />
        <axis xyz="0 0 1" />
    </joint>
	<joint name="jLeftKnee_rotx" type="revolute">
        <origin xyz="3e-05           0    -0.52609" rpy="0 0 0"/>
        <parent link="LeftUpperLeg"/>
        <child link="LeftLowerLeg_f1"/>
        <dynamics damping="0.1" friction="0.0"/>
        <limit effort="30" velocity="1.0" lower="-10.0" upper="10.0" />
        <axis xyz="1 0 0" />
    </joint>
	<joint name="jLeftKnee_roty" type="revolute">
        <origin xyz="0 0 0" rpy="0 0 0"/>
        <parent link="LeftLowerLeg_f1"/>
        <child link="LeftLowerLeg_f2"/>
        <dynamics damping="0.1" friction="0.0"/>
        <limit effort="30" velocity="1.0" lower="-10.0" upper="10.0" />
        <axis xyz="0 1 0" />
    </joint>
    <joint name="jLeftKnee_rotz" type="revolute">
        <origin xyz="0 0 0" rpy="0 0 0"/>
        <parent link="LeftLowerLeg_f2"/>
        <child link="LeftLowerLeg"/>
        <dynamics damping="0.1" friction="0.0"/>
        <limit effort="30" velocity="1.0" lower="-10.0" upper="10.0" />
        <axis xyz="0 0 1" />
    </joint>
	<joint name="jLeftAnkle_rotx" type="revolute">
        <origin xyz="-0.0001           0    -0.41228" rpy="0 0 0"/>
        <parent link="LeftLowerLeg"/>
        <child link="LeftFoot_f1"/>
        <dynamics damping="0.1" friction="0.0"/>
        <limit effort="30" velocity="1.0" lower="-10.0" upper="10.0" />
        <axis xyz="1 0 0" />
    </joint>
	<joint name="jLeftAnkle_roty" type="revolute">
        <origin xyz="0 0 0" rpy="0 0 0"/>
        <parent link="LeftFoot_f1"/>
        <child link="LeftFoot_f2"/>
        <dynamics damping="0.1" friction="0.0"/>
        <limit effort="30" velocity="1.0" lower="-10.0" upper="10.0" />
        <axis xyz="0 1 0" />
    </joint>
    <joint name="jLeftAnkle_rotz" type="revolute">
        <origin xyz="0 0 0" rpy="0 0 0"/>
        <parent link="LeftFoot_f2"/>
        <child link="LeftFoot"/>
        <dynamics damping="0.1" friction="0.0"/>
        <limit effort="30" velocity="1.0" lower="-10.0" upper="10.0" />
        <axis xyz="0 0 1" />
    </joint>
	<joint name="jLeftBallFoot_rotx" type="revolute">
        <origin xyz="0.16553           0   -0.067444" rpy="0 0 0"/>
        <parent link="LeftFoot"/>
        <child link="LeftToe_f1"/>
        <dynamics damping="0.1" friction="0.0"/>
        <limit effort="30" velocity="1.0" lower="-10.0" upper="10.0" />
        <axis xyz="1 0 0" />
    </joint>
	<joint name="jLeftBallFoot_roty" type="revolute">
        <origin xyz="0 0 0" rpy="0 0 0"/>
        <parent link="LeftToe_f1"/>
        <child link="LeftToe_f2"/>
        <dynamics damping="0.1" friction="0.0"/>
        <limit effort="30" velocity="1.0" lower="-10.0" upper="10.0" />
        <axis xyz="0 1 0" />
    </joint>
    <joint name="jLeftBallFoot_rotz" type="revolute">
        <origin xyz="0 0 0" rpy="0 0 0"/>
        <parent link="LeftToe_f2"/>
        <child link="LeftToe"/>
        <dynamics damping="0.1" friction="0.0"/>
        <limit effort="30" velocity="1.0" lower="-10.0" upper="10.0" />
        <axis xyz="0 0 1" />
    </joint>

	<!-- Sensor  1-->
<sensor name="Pelvis_gyro" type="gyroscope">
<parent link="Pelvis"/>
<origin xyz="-0.068488 -3.8658e-07     0.11696" rpy="-0.27051      1.3344      2.7093"/>
</sensor>
<sensor name="Pelvis_accelerometer" type="accelerometer">
<parent link="Pelvis"/>
<origin xyz="-0.068488 -3.8658e-07     0.11696" rpy="-0.27051      1.3344      2.7093"/>
</sensor>
<!-- Sensor  2-->
<sensor name="T8_gyro" type="gyroscope">
<parent link="T8"/>
<origin xyz="0.12929  8.9756e-08    0.071108" rpy="0.38721      1.2683     0.24211"/>
</sensor>
<sensor name="T8_accelerometer" type="accelerometer">
<parent link="T8"/>
<origin xyz="0.12929  8.9756e-08    0.071108" rpy="0.38721      1.2683     0.24211"/>
</sensor>
<!-- Sensor  3-->
<sensor name="Head_gyro" type="gyroscope">
<parent link="Head"/>
<origin xyz="-0.077436 -1.1223e-07    0.085116" rpy="-2.4386    -0.21231      1.6195"/>
</sensor>
<sensor name="Head_accelerometer" type="accelerometer">
<parent link="Head"/>
<origin xyz="-0.077436 -1.1223e-07    0.085116" rpy="-2.4386    -0.21231      1.6195"/>
</sensor>
<!-- Sensor  4-->
<sensor name="RightShoulder_gyro" type="gyroscope">
<parent link="RightShoulder"/>
<origin xyz="-0.022421   -0.056053   -0.067264" rpy="1.2409      -0.251     -1.4752"/>
</sensor>
<sensor name="RightShoulder_accelerometer" type="accelerometer">
<parent link="RightShoulder"/>
<origin xyz="-0.022421   -0.056053   -0.067264" rpy="1.2409      -0.251     -1.4752"/>
</sensor>
<!-- Sensor  5-->
<sensor name="RightUpperArm_gyro" type="gyroscope">
<parent link="RightUpperArm"/>
<origin xyz="-0.019597   -0.097988    0.019598" rpy="-0.023852    0.034416     -1.4836"/>
</sensor>
<sensor name="RightUpperArm_accelerometer" type="accelerometer">
<parent link="RightUpperArm"/>
<origin xyz="-0.019597   -0.097988    0.019598" rpy="-0.023852    0.034416     -1.4836"/>
</sensor>
<!-- Sensor  6-->
<sensor name="RightForeArm_gyro" type="gyroscope">
<parent link="RightForeArm"/>
<origin xyz="0.0018228     -0.1988    0.019855" rpy="-0.23839    0.042417      -1.238"/>
</sensor>
<sensor name="RightForeArm_accelerometer" type="accelerometer">
<parent link="RightForeArm"/>
<origin xyz="0.0018228     -0.1988    0.019855" rpy="-0.23839    0.042417      -1.238"/>
</sensor>
<!-- Sensor  7-->
<sensor name="RightHand_gyro" type="gyroscope">
<parent link="RightHand"/>
<origin xyz="3.4392e-08   -0.055431    0.020157" rpy="-0.1235    0.039699     -1.3751"/>
</sensor>
<sensor name="RightHand_accelerometer" type="accelerometer">
<parent link="RightHand"/>
<origin xyz="3.4392e-08   -0.055431    0.020157" rpy="-0.1235    0.039699     -1.3751"/>
</sensor>
<!-- Sensor  8-->
<sensor name="LeftShoulder_gyro" type="gyroscope">
<parent link="LeftShoulder"/>
<origin xyz="-0.022421    0.056053   -0.067264" rpy="-1.3117     -0.3446      1.3956"/>
</sensor>
<sensor name="LeftShoulder_accelerometer" type="accelerometer">
<parent link="LeftShoulder"/>
<origin xyz="-0.022421    0.056053   -0.067264" rpy="-1.3117     -0.3446      1.3956"/>
</sensor>
<!-- Sensor  9-->
<sensor name="LeftUpperArm_gyro" type="gyroscope">
<parent link="LeftUpperArm"/>
<origin xyz="-0.019597    0.097989    0.019598" rpy="0.10179    0.025936      1.4178"/>
</sensor>
<sensor name="LeftUpperArm_accelerometer" type="accelerometer">
<parent link="LeftUpperArm"/>
<origin xyz="-0.019597    0.097989    0.019598" rpy="0.10179    0.025936      1.4178"/>
</sensor>
<!-- Sensor  10-->
<sensor name="LeftForeArm_gyro" type="gyroscope">
<parent link="LeftForeArm"/>
<origin xyz="0.0018196      0.1988    0.019876" rpy="0.33797   -0.011593      1.2119"/>
</sensor>
<sensor name="LeftForeArm_accelerometer" type="accelerometer">
<parent link="LeftForeArm"/>
<origin xyz="0.0018196      0.1988    0.019876" rpy="0.33797   -0.011593      1.2119"/>
</sensor>
<!-- Sensor  11-->
<sensor name="LeftHand_gyro" type="gyroscope">
<parent link="LeftHand"/>
<origin xyz="1.4957e-06    0.055432    0.020158" rpy="0.20961    0.078707      1.2361"/>
</sensor>
<sensor name="LeftHand_accelerometer" type="accelerometer">
<parent link="LeftHand"/>
<origin xyz="1.4957e-06    0.055432    0.020158" rpy="0.20961    0.078707      1.2361"/>
</sensor>
<!-- Sensor  12-->
<sensor name="RightUpperLeg_gyro" type="gyroscope">
<parent link="RightUpperLeg"/>
<origin xyz="0.015207   -0.053543    -0.31632" rpy="2.7056      1.3522      1.1266"/>
</sensor>
<sensor name="RightUpperLeg_accelerometer" type="accelerometer">
<parent link="RightUpperLeg"/>
<origin xyz="0.015207   -0.053543    -0.31632" rpy="2.7056      1.3522      1.1266"/>
</sensor>
<!-- Sensor  13-->
<sensor name="RightLowerLeg_gyro" type="gyroscope">
<parent link="RightLowerLeg"/>
<origin xyz="0.031416   0.0071913    -0.13516" rpy="-3.0013      1.5099      -2.862"/>
</sensor>
<sensor name="RightLowerLeg_accelerometer" type="accelerometer">
<parent link="RightLowerLeg"/>
<origin xyz="0.031416   0.0071913    -0.13516" rpy="-3.0013      1.5099      -2.862"/>
</sensor>
<!-- Sensor  14-->
<sensor name="RightFoot_gyro" type="gyroscope">
<parent link="RightFoot"/>
<origin xyz="0.094314   0.0015696   -0.013315" rpy="0.19638     0.42312    0.033114"/>
</sensor>
<sensor name="RightFoot_accelerometer" type="accelerometer">
<parent link="RightFoot"/>
<origin xyz="0.094314   0.0015696   -0.013315" rpy="0.19638     0.42312    0.033114"/>
</sensor>
<!-- Sensor  15-->
<sensor name="LeftUpperLeg_gyro" type="gyroscope">
<parent link="LeftUpperLeg"/>
<origin xyz="0.015207    0.053543    -0.31632" rpy="2.7741      1.4429     -1.9595"/>
</sensor>
<sensor name="LeftUpperLeg_accelerometer" type="accelerometer">
<parent link="LeftUpperLeg"/>
<origin xyz="0.015207    0.053543    -0.31632" rpy="2.7741      1.4429     -1.9595"/>
</sensor>
<!-- Sensor  16-->
<sensor name="LeftLowerLeg_gyro" type="gyroscope">
<parent link="LeftLowerLeg"/>
<origin xyz="0.031416  -0.0071914    -0.13516" rpy="2.5557      1.4555      2.3984"/>
</sensor>
<sensor name="LeftLowerLeg_accelerometer" type="accelerometer">
<parent link="LeftLowerLeg"/>
<origin xyz="0.031416  -0.0071914    -0.13516" rpy="2.5557      1.4555      2.3984"/>
</sensor>
<!-- Sensor  17-->
<sensor name="LeftFoot_gyro" type="gyroscope">
<parent link="LeftFoot"/>
<origin xyz="0.094314  -0.0015696   -0.013315" rpy="-0.36816     0.44411     0.22503"/>
</sensor>
<sensor name="LeftFoot_accelerometer" type="accelerometer">
<parent link="LeftFoot"/>
<origin xyz="0.094314  -0.0015696   -0.013315" rpy="-0.36816     0.44411     0.22503"/>
</sensor>


</robot>
